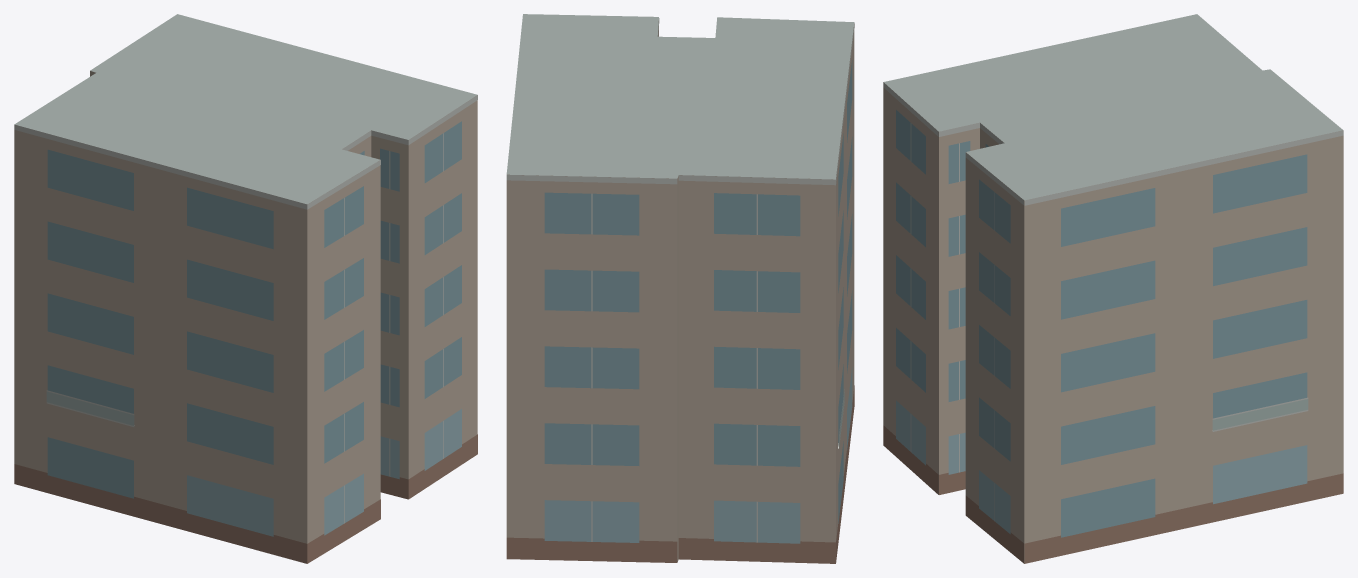
File: survey-upis-33037001.glb
3 views of the same model, side by side, from view 1: azimuth 30°, elevation 25°; view 2: azimuth 150°, elevation 25°; view 3: azimuth 270°, elevation 25° (orthographic). The views are drawn at different scales.
Parts seen in each view (by area): view 1: survey-upis-33037001.tmp; view 2: survey-upis-33037001.tmp; view 3: survey-upis-33037001.tmp.
Part boxes in pixels (left/top/right/bottom): survey-upis-33037001.tmp: left=14, top=14, right=477, bottom=563; survey-upis-33037001.tmp: left=506, top=14, right=854, bottom=563; survey-upis-33037001.tmp: left=883, top=14, right=1343, bottom=563.
Size of the model in its own units: 18.23 by 16.55 by 19.
